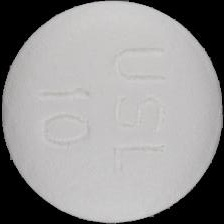33261-215: (0, 0, 224, 224)
